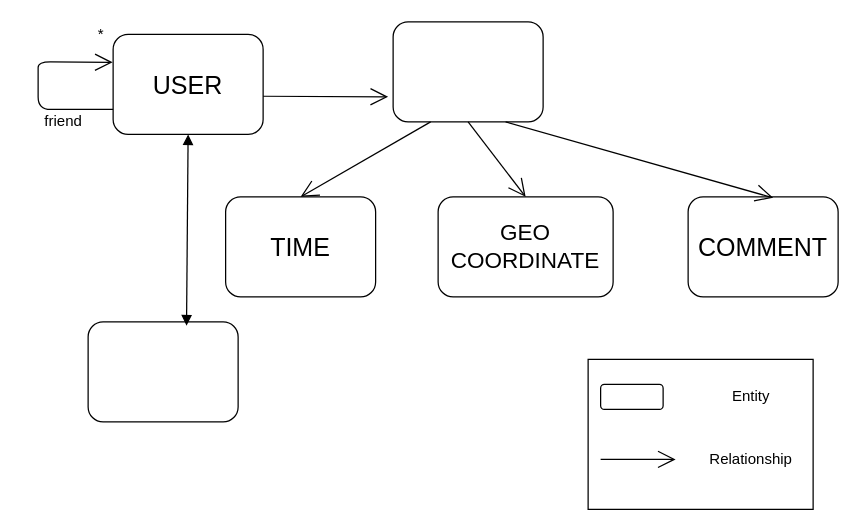
The diagram is 860 pixels wide and 531 high, and some of its shapes have lost their labels. The centre of each missing label's shape, as x and y in pixels:
"LOCATION" goes at (x=467, y=71).
"NOTIFICATION" goes at (x=162, y=371).
